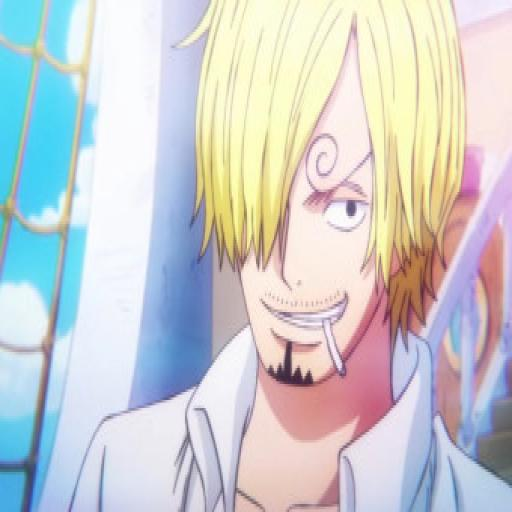sanji: (182, 0, 462, 395)
